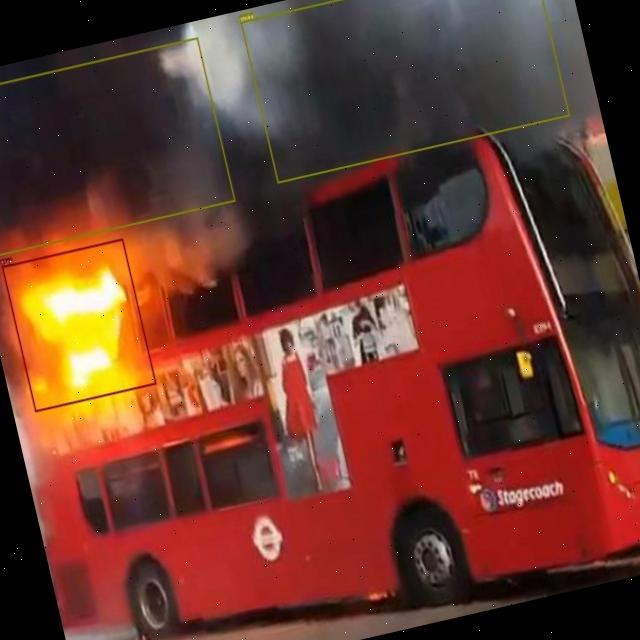fire: (0, 238, 156, 412)
smoke: (239, 0, 569, 183), (0, 36, 234, 256)
